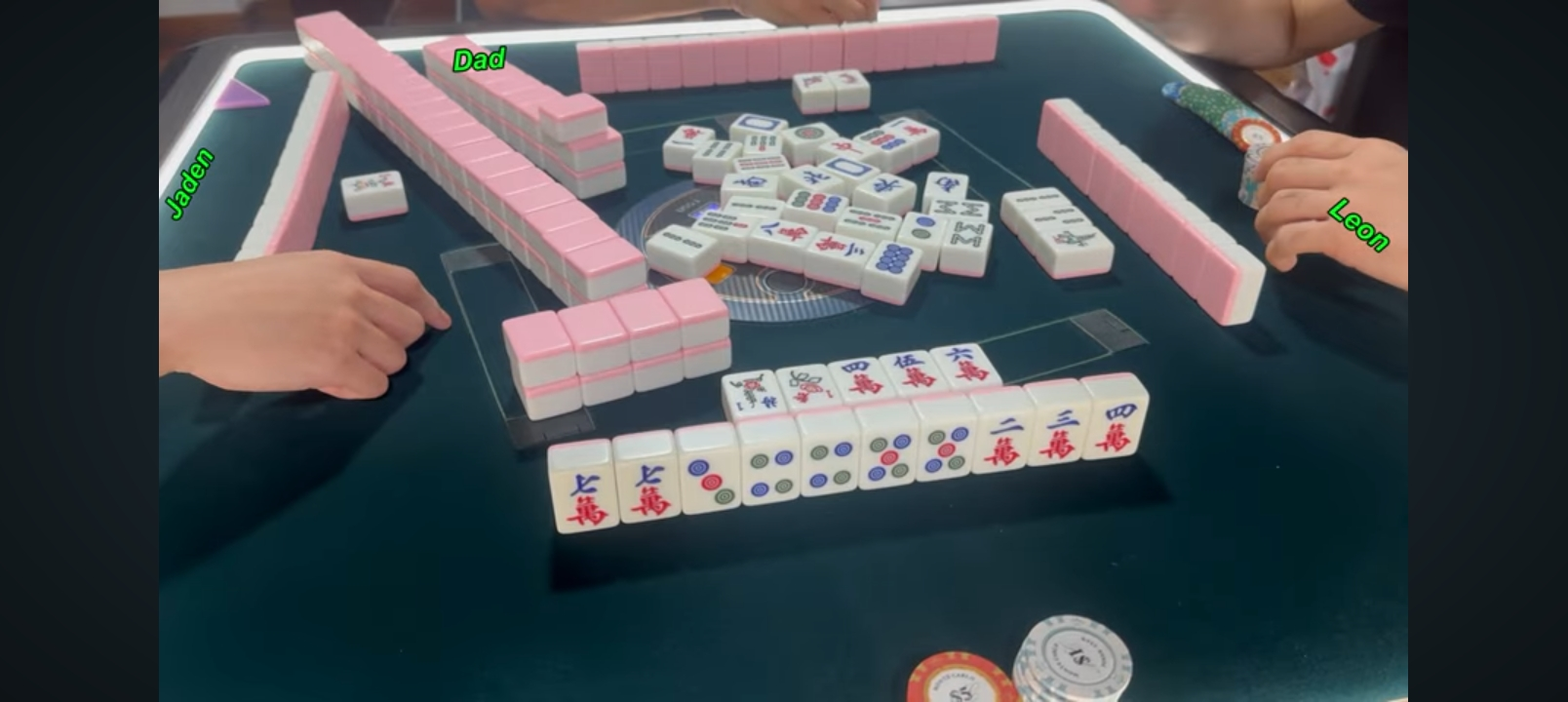TILE: (614, 462, 681, 521), (551, 470, 617, 529), (681, 454, 741, 511), (742, 448, 804, 503), (977, 415, 1035, 472), (801, 439, 862, 493), (1035, 406, 1088, 466), (937, 344, 1004, 391), (861, 433, 919, 487), (1090, 400, 1146, 455), (919, 425, 976, 479), (724, 369, 784, 417), (779, 363, 841, 409), (885, 351, 942, 397), (838, 356, 892, 403)
